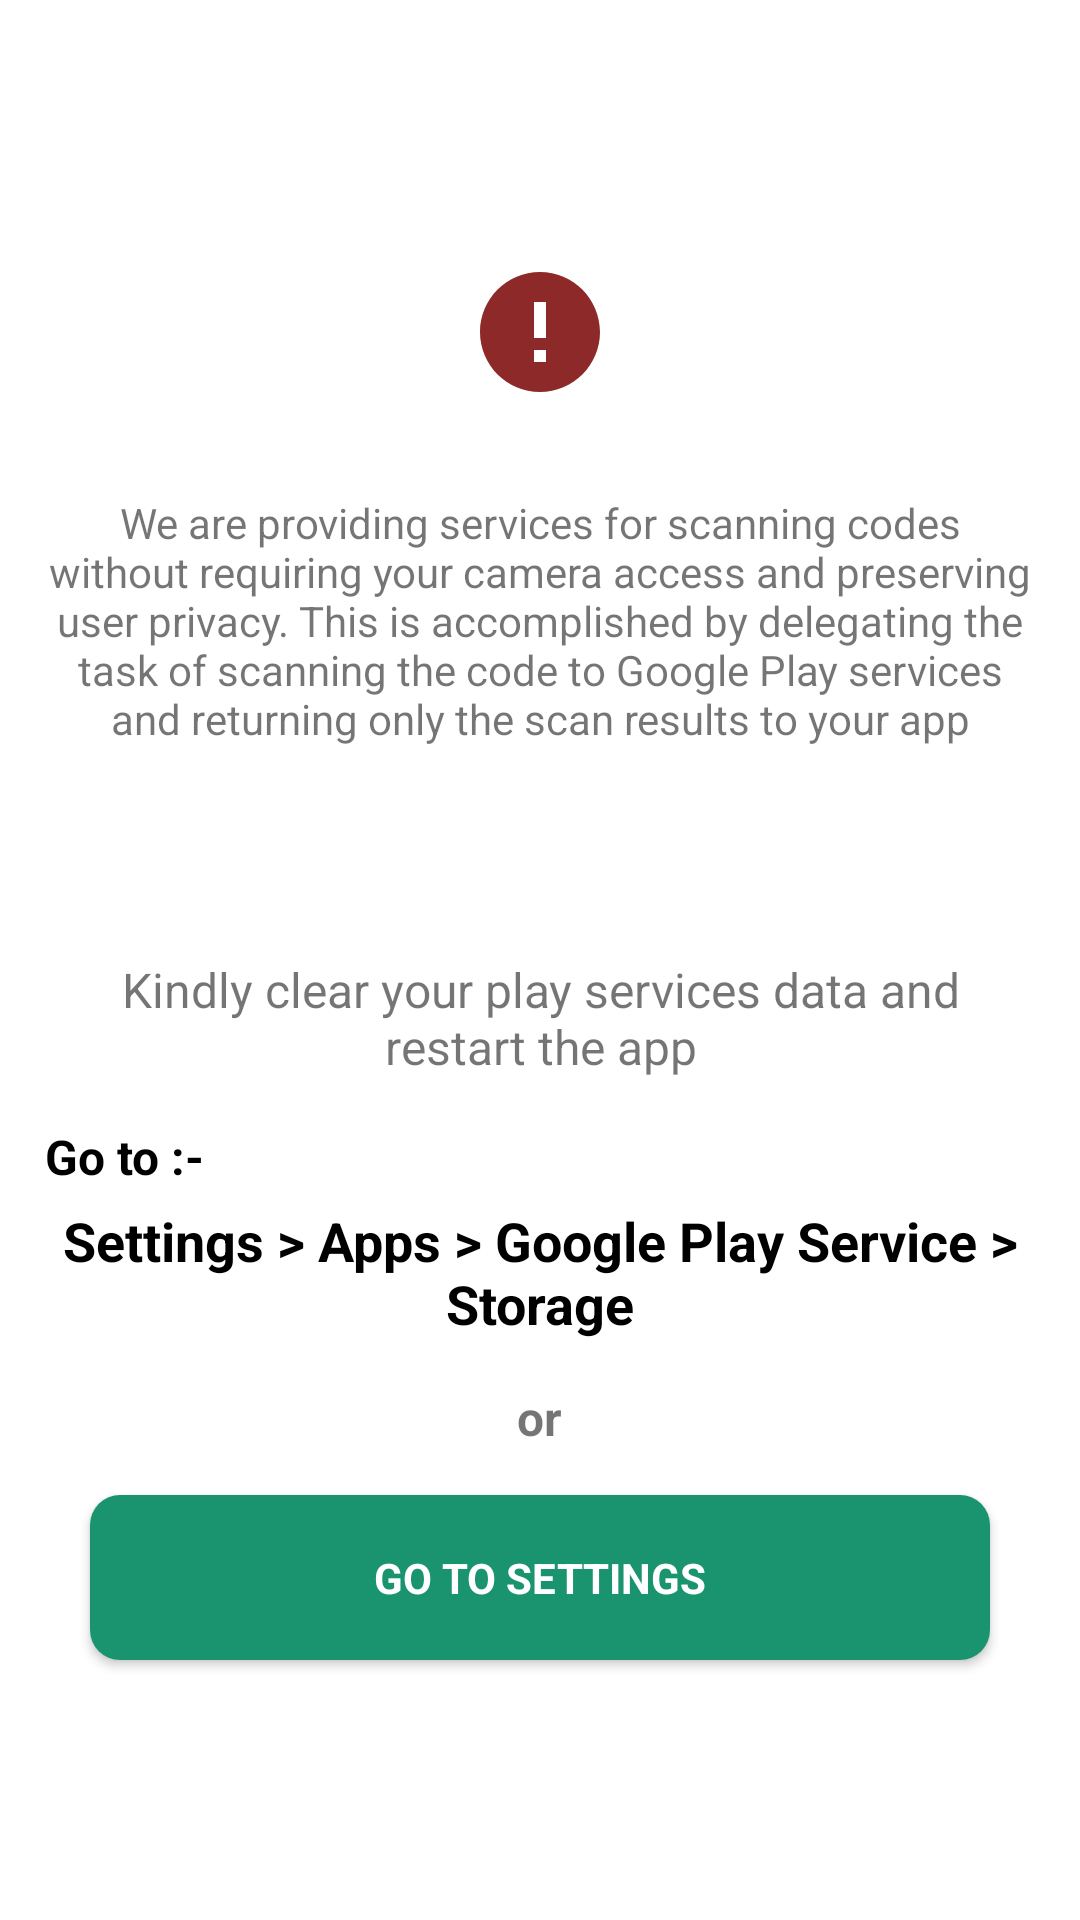

Named icons in this screenshot (1080px×1920px) and their bounding boxes, (x1, y1, x2, y2):
error: (480, 272, 600, 392)
